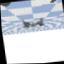drone: (20, 17, 43, 28)
